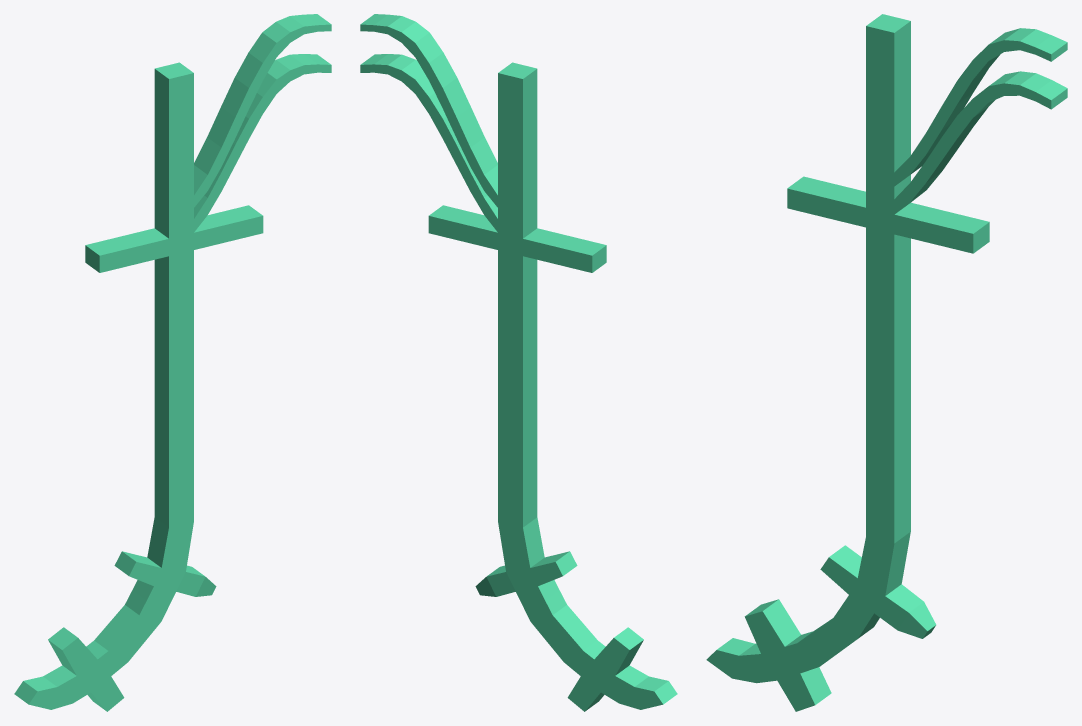
File: draum.glb
The picture shows the model from 3 angles, left to right: view 1: azimuth 30°, elevation 25°; view 2: azimuth 150°, elevation 25°; view 3: azimuth 330°, elevation 25°; orthographic projection. The views are drawn at different scales.
Visible parts, largest first — view 1: draumstafur; view 2: draumstafur; view 3: draumstafur.
Boxes of the visible parts, box(x1,y1,x2,y2) form: draumstafur: box(14, 14, 331, 711); draumstafur: box(360, 14, 677, 711); draumstafur: box(706, 14, 1067, 711).
Size of the model in its own units: 0.2428 by 0.4877 by 0.02.
